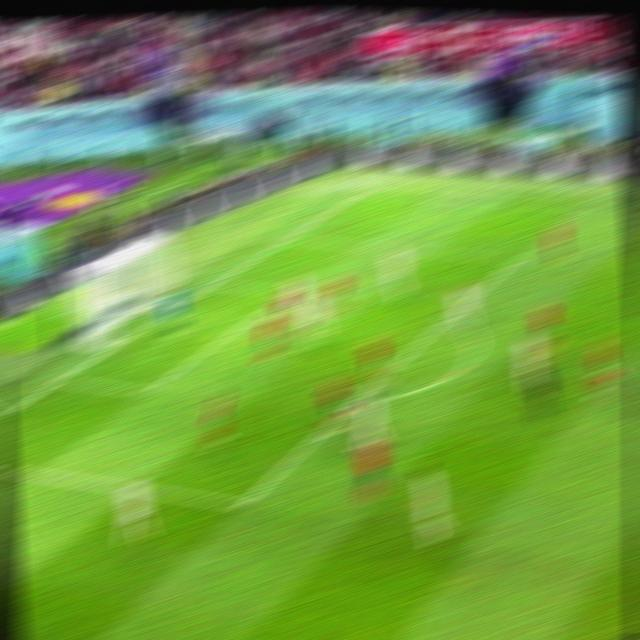bigarea_bottom_inner: (228, 491, 257, 516)
bigarea_top_inner: (504, 249, 524, 265)
bigarea_top_outter: (279, 233, 298, 244)
bottom_arc_area_intersection: (341, 397, 361, 410)
corner: (355, 191, 374, 195)
smallarea_bottom_inner: (135, 381, 161, 401)
smallarea_bottom_outter: (50, 372, 72, 387)
smallarea_top_inner: (275, 287, 295, 298)
smallarea_top_outter: (207, 277, 227, 289)
top_arc_area_intersection: (440, 309, 460, 323)
